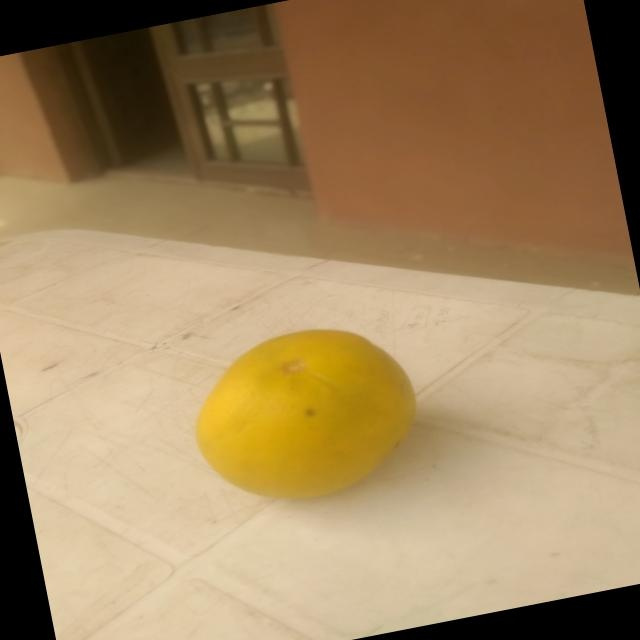agrume: (175, 305, 441, 527)
